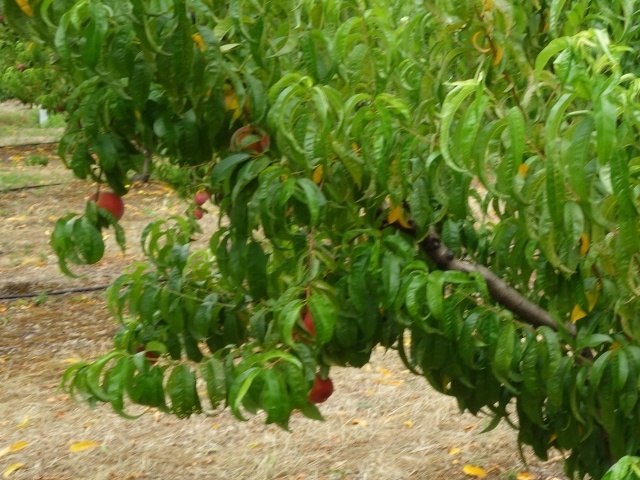peach: (227, 122, 273, 162), (82, 188, 127, 228), (302, 371, 337, 407)
